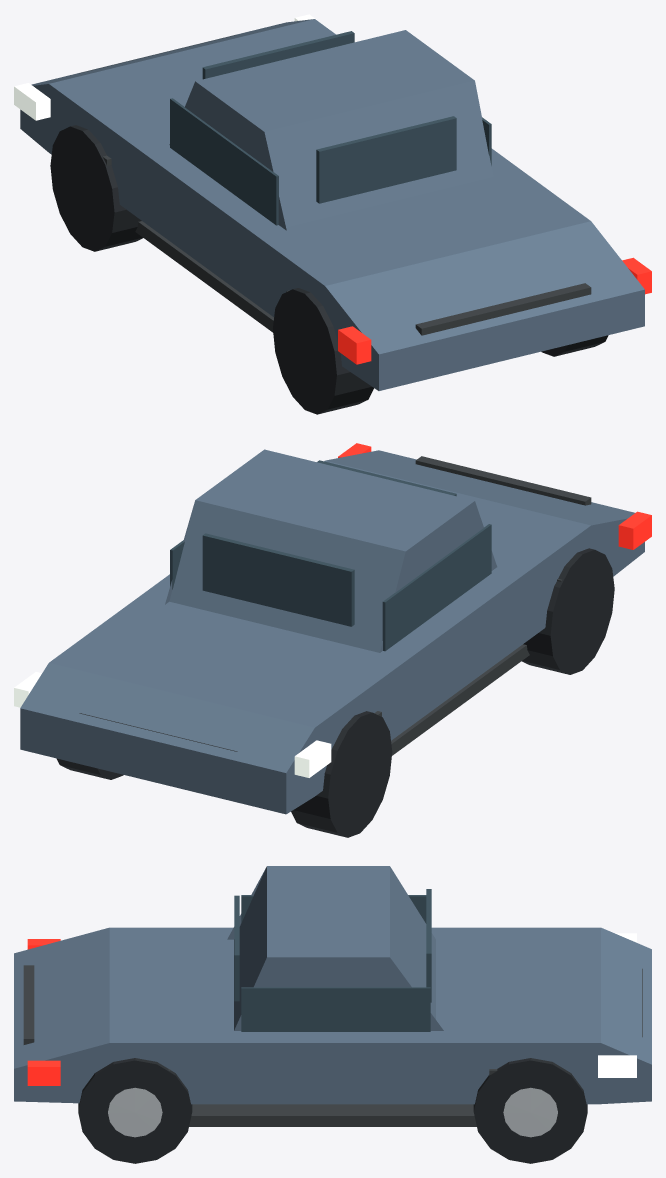
Rendered from bmw-530i-m-sport.glb.
3 views of the same model, one above another, from view 1: azimuth 30°, elevation 25°; view 2: azimuth 150°, elevation 25°; view 3: azimuth 270°, elevation 25° (orthographic). The views are drawn at different scales.
Visible parts, largest first — view 1: bmw-530i-m-sport illustrative model; view 2: bmw-530i-m-sport illustrative model; view 3: bmw-530i-m-sport illustrative model.
Part boxes in pixels (x1,y1,x2,y2): bmw-530i-m-sport illustrative model: (14, 14, 651, 414); bmw-530i-m-sport illustrative model: (14, 443, 651, 837); bmw-530i-m-sport illustrative model: (14, 866, 651, 1163).
Bounding box in the file's own units: 2.02 × 1.41 × 4.25.
